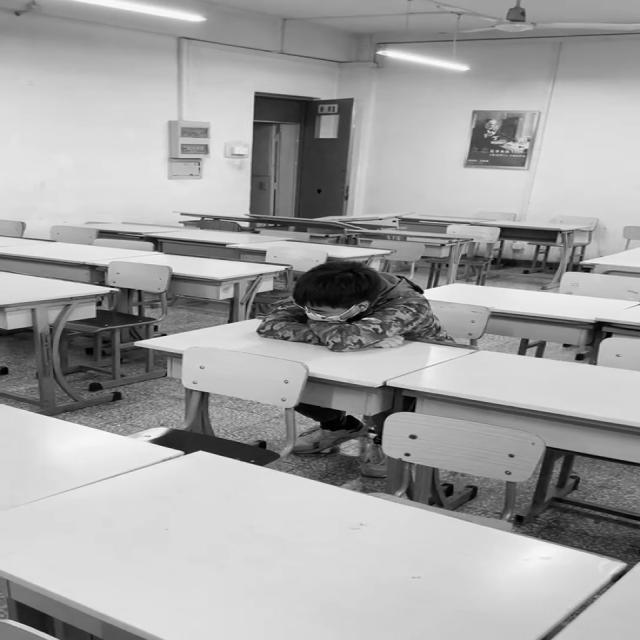sleep: (256, 265, 440, 352)
